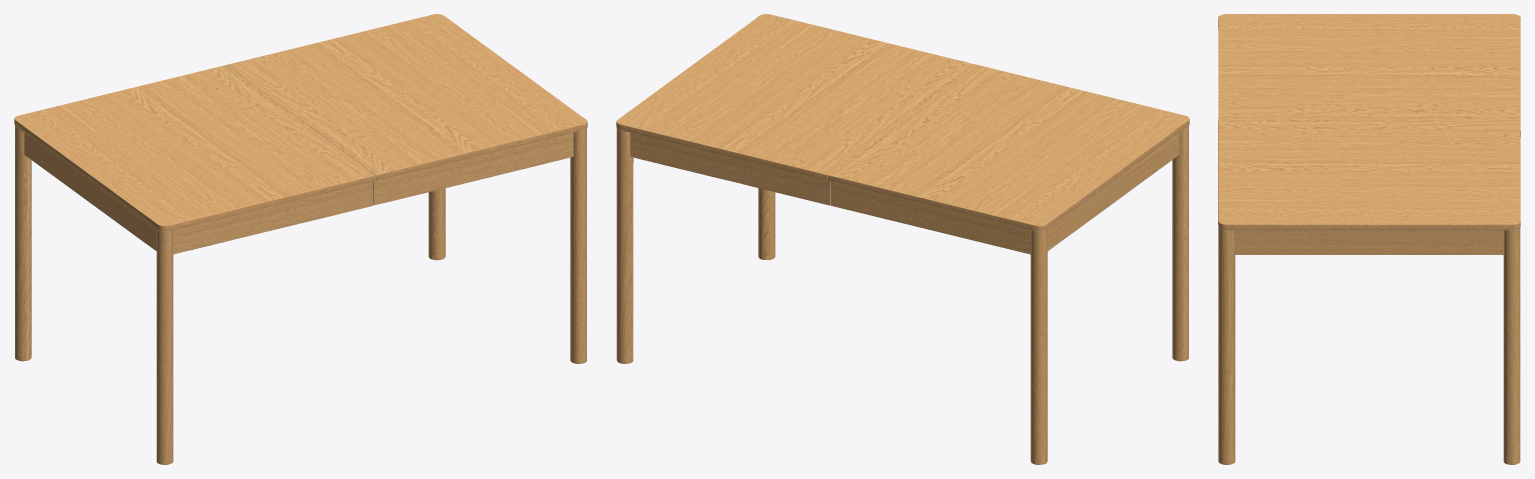
Rendered from tonstad-mesa-extensible-chapa-roble.glb.
The picture shows the model from 3 angles, left to right: view 1: azimuth 30°, elevation 25°; view 2: azimuth 150°, elevation 25°; view 3: azimuth 270°, elevation 25°; orthographic projection.
Visible parts, largest first — view 1: ASY_LPT02_40593882_S01_NV01, ASY_LPT01_40593882_S01_NV01; view 2: ASY_LPT02_40593882_S01_NV01, ASY_LPT01_40593882_S01_NV01; view 3: ASY_LPT01_40593882_S01_NV01, ASY_LPT02_40593882_S01_NV01.
Boxes of the visible parts, left/top/right/bottom form: ASY_LPT02_40593882_S01_NV01: left=14, top=65, right=375, bottom=464; ASY_LPT01_40593882_S01_NV01: left=226, top=14, right=587, bottom=363; ASY_LPT02_40593882_S01_NV01: left=828, top=65, right=1189, bottom=464; ASY_LPT01_40593882_S01_NV01: left=616, top=14, right=977, bottom=363; ASY_LPT01_40593882_S01_NV01: left=1218, top=119, right=1520, bottom=464; ASY_LPT02_40593882_S01_NV01: left=1218, top=14, right=1520, bottom=119.
Size of the model in its own units: 1.4 by 0.7496 by 0.8504.
4 materials, 4 textured.
